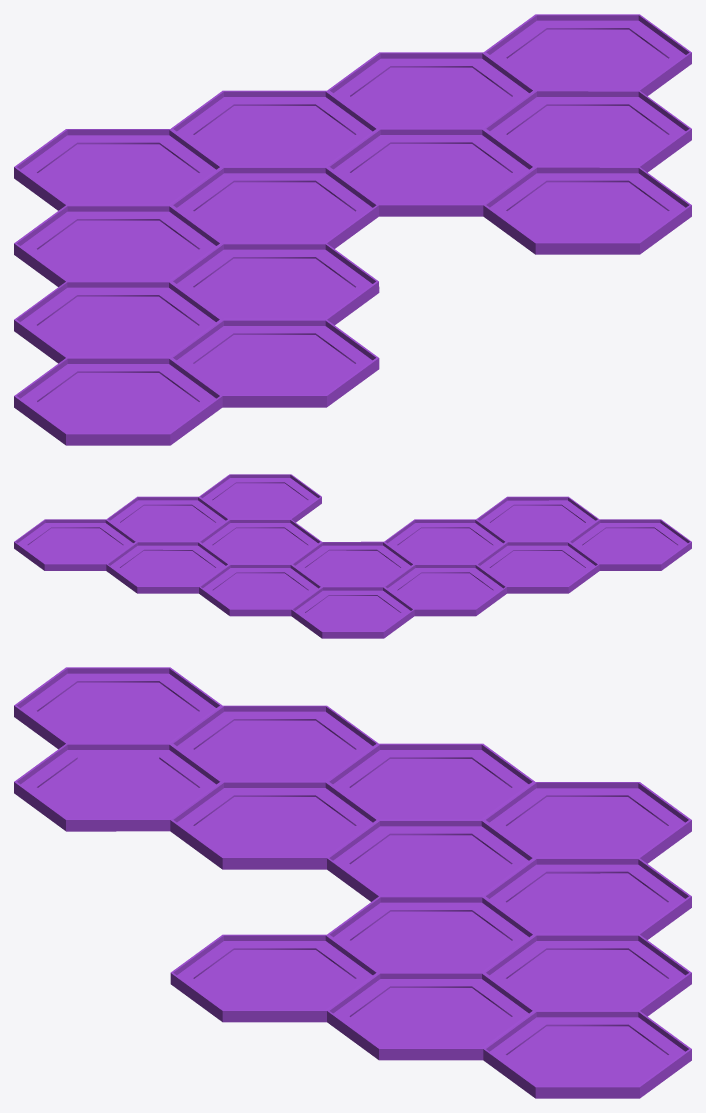
Rendered from HexagonInsertStage3_2.fbx.
3 views of the same model, one above another, from view 1: azimuth 30°, elevation 25°; view 2: azimuth 150°, elevation 25°; view 3: azimuth 270°, elevation 25° (orthographic). The views are drawn at different scales.
Parts seen in each view (by area): view 1: MoldInsertStage3_2; view 2: MoldInsertStage3_2; view 3: MoldInsertStage3_2.
Boxes of the visible parts, bbox=[...] form: MoldInsertStage3_2: bbox=[14, 14, 691, 445]; MoldInsertStage3_2: bbox=[14, 474, 691, 638]; MoldInsertStage3_2: bbox=[14, 667, 691, 1098].
Bounding box in the file's own units: 1001 × 12.87 × 683.
